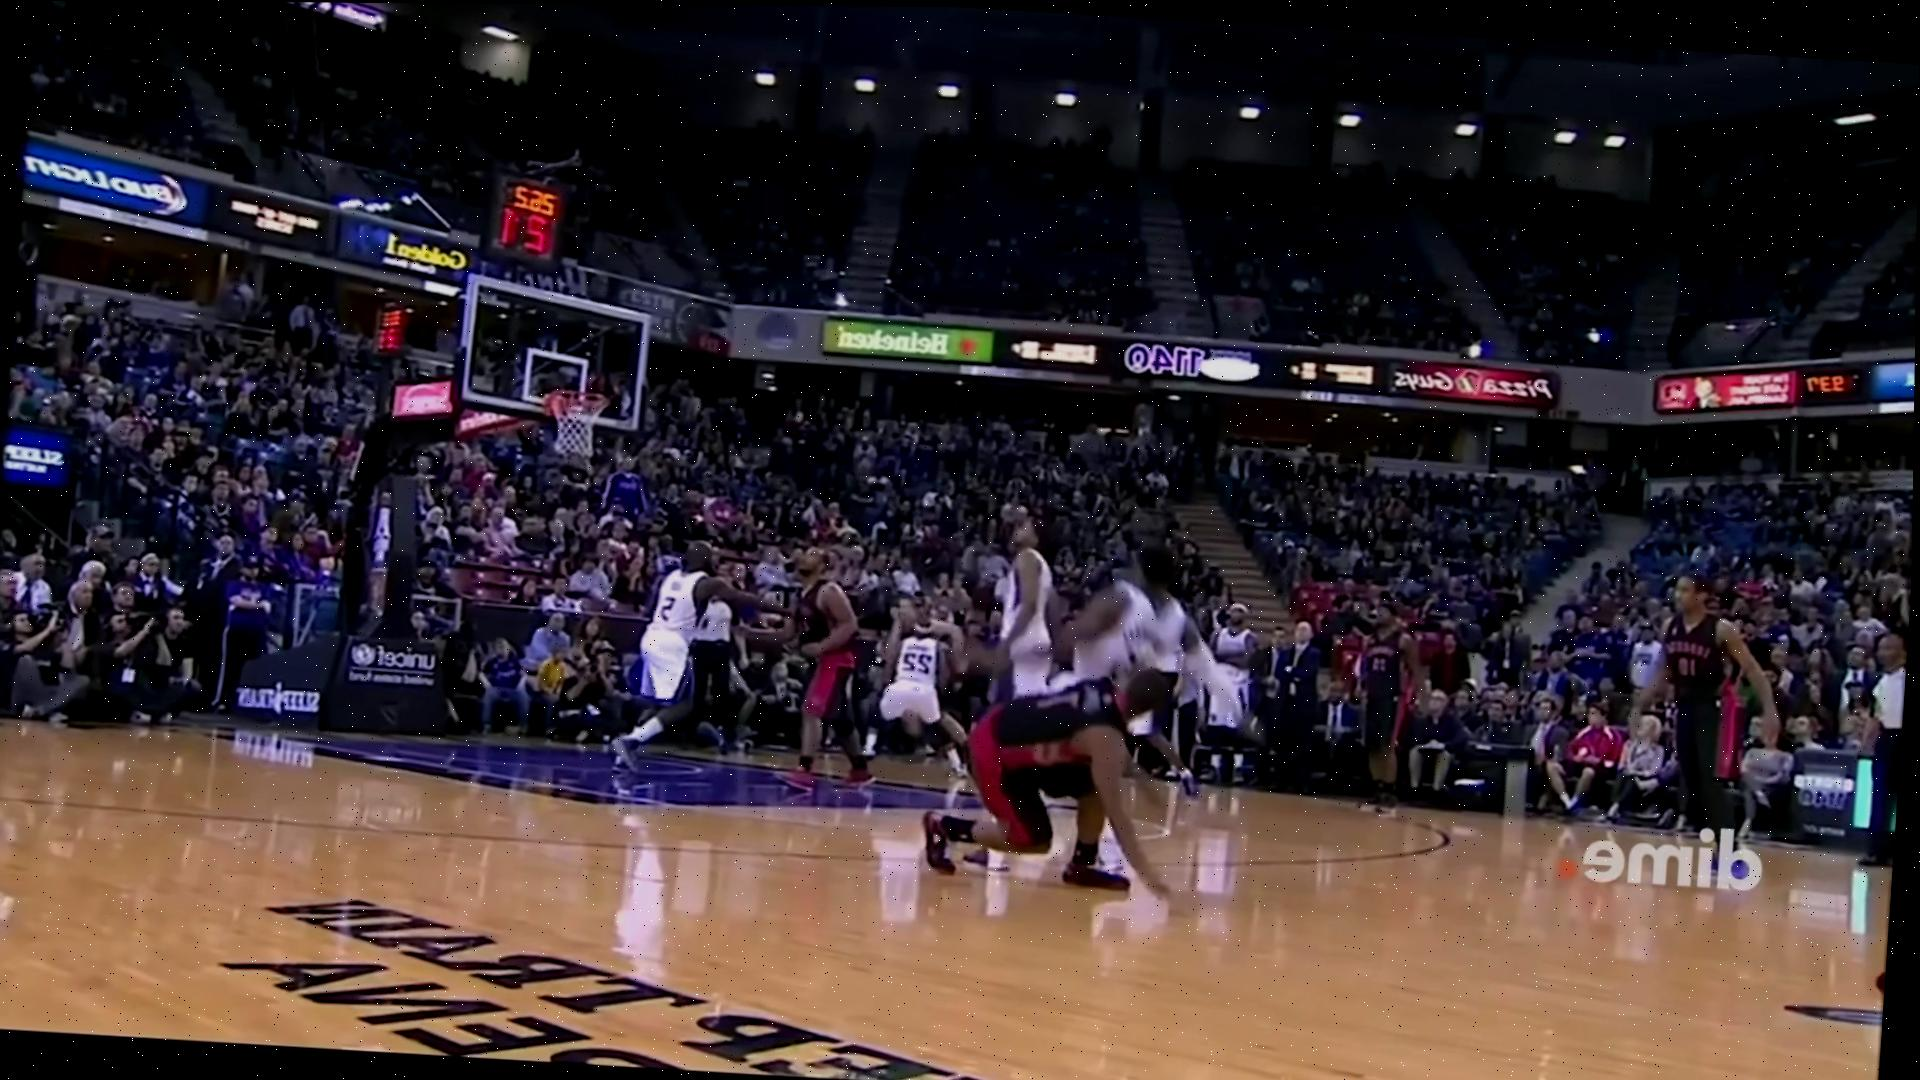foul: (899, 524, 1233, 897)
